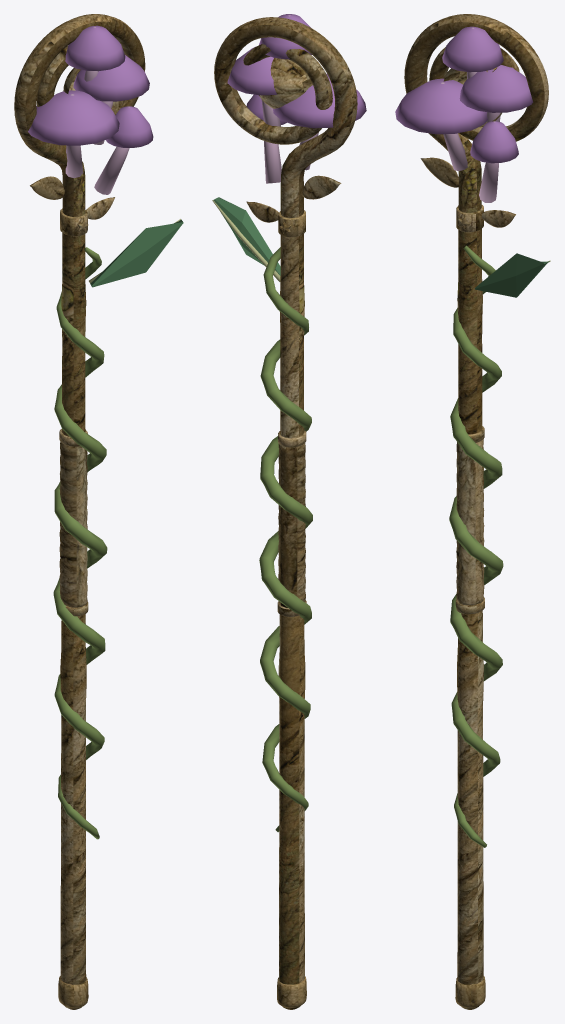
Rendered from spore_staff.glb.
3 renders of one model, left to right at view 1: azimuth 30°, elevation 25°; view 2: azimuth 150°, elevation 25°; view 3: azimuth 330°, elevation 25°, orthographic.
Parts seen in each view (by area): view 1: SporeStaff; view 2: SporeStaff; view 3: SporeStaff.
Part boxes in pixels (<box>): SporeStaff: <box>14,14,183,1009</box>; SporeStaff: <box>212,14,366,1009</box>; SporeStaff: <box>395,14,550,1009</box>.
Bounding box in the file's own units: 0.2768 × 1.69 × 0.158.
6 materials, 1 textured.
